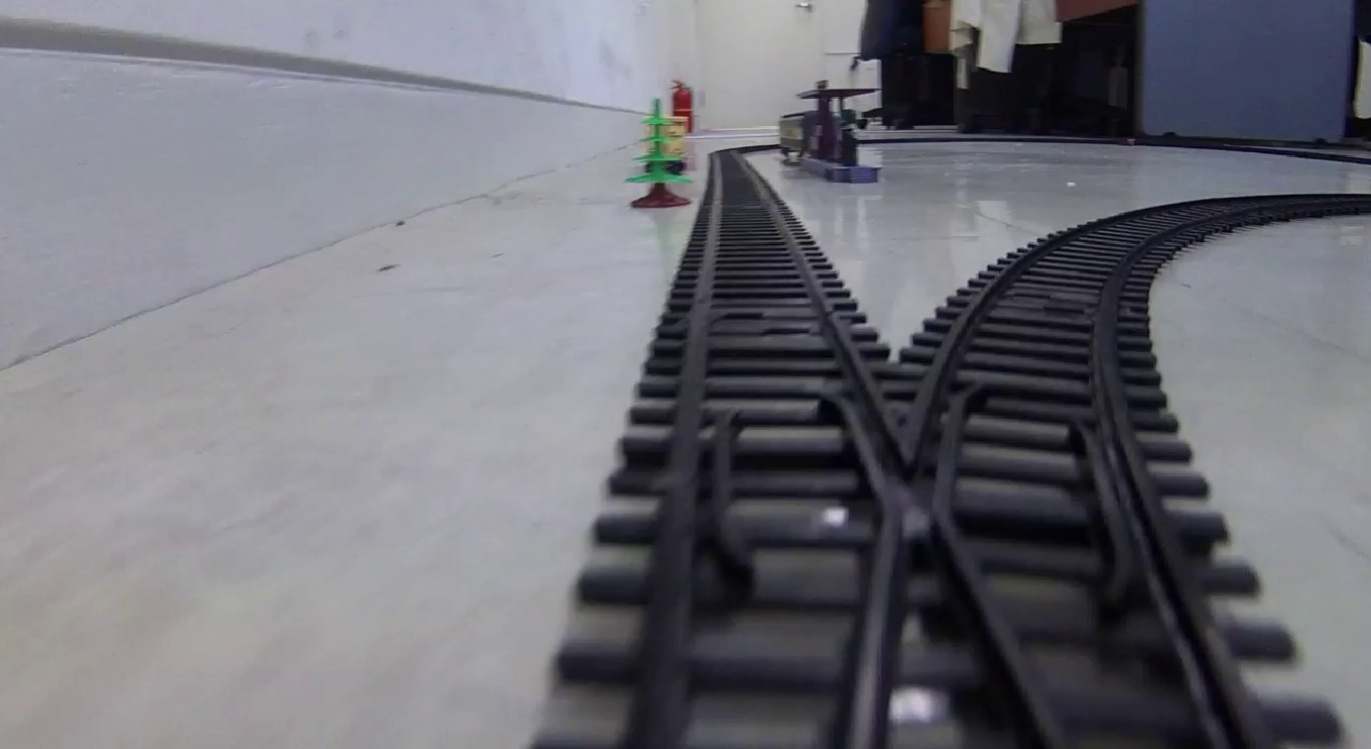tree: (628, 99, 695, 210)
